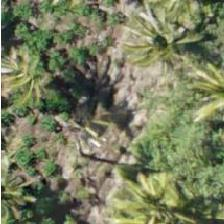Kelapa_Sawit: (0, 35, 87, 125), (106, 0, 196, 80), (114, 171, 204, 224), (0, 159, 52, 224)
